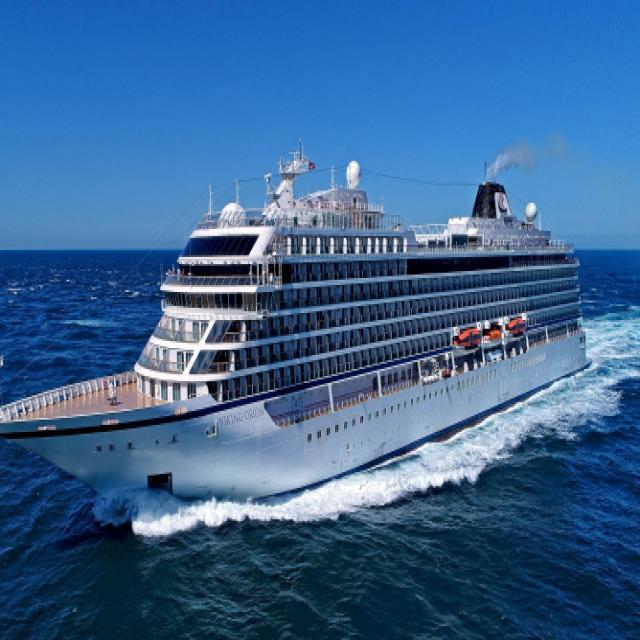cruises: (1, 144, 601, 524)
